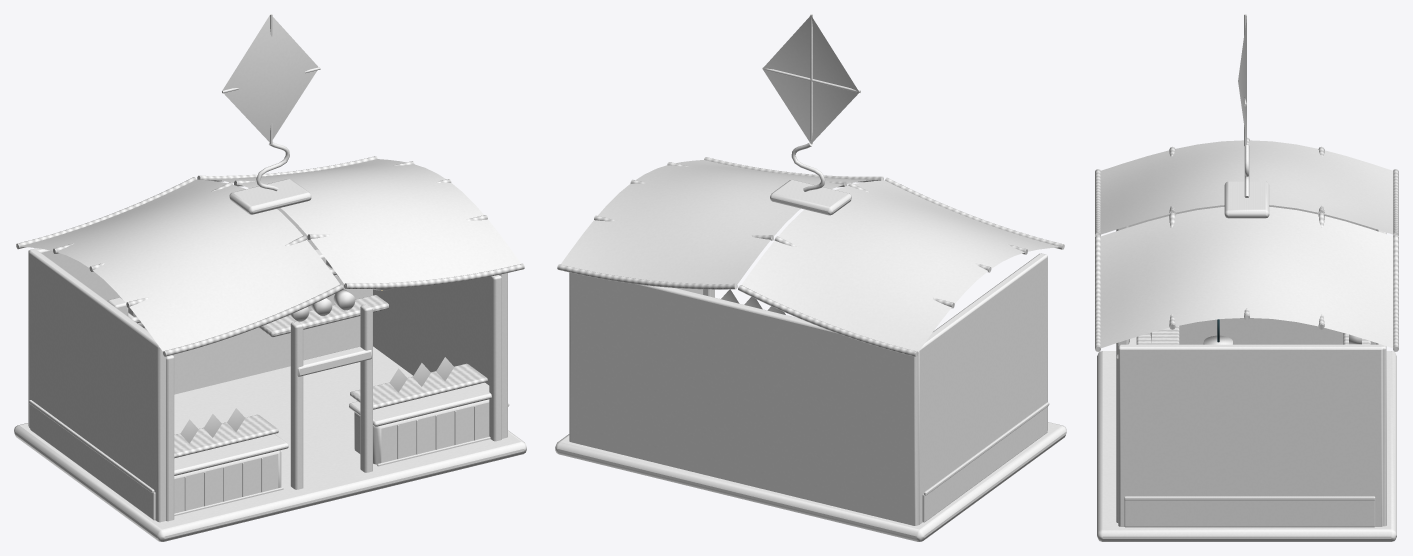
Rendered from kite.raw.glb.
The picture shows the model from 3 angles, left to right: view 1: azimuth 30°, elevation 25°; view 2: azimuth 150°, elevation 25°; view 3: azimuth 270°, elevation 25°; orthographic projection.
Visible parts, largest first — view 1: kite_Kite_SailRoof_42, kite_Shared_Foundation_4, kite_Shared_SideWall_6, kite_Kite_SailRoof_55, kite_Shared_SideWall_11, kite_Shared_BackWall_5, kite_Kite_FoldedSail_63, kite_Shared_ServiceCounter_12, kite_Shared_ServiceCounter_7, kite_Detail_SideDado_67, kite_Sail_CuttingTable_56, kite_Shared_CounterStone_13 (+14 smaller); view 2: kite_Shared_BackWall_5, kite_Kite_SailRoof_42, kite_Kite_SailRoof_55, kite_Shared_SideWall_6, kite_Shared_Foundation_4, kite_Kite_FoldedSail_63, kite_Detail_SideDado_67, kite_Shared_RooftopMount_35, kite_Kite_RibCanopy_41, kite_Kite_RibCanopy_54, kite_Kite_RibCanopy_37, kite_Detail_SideTrim_68 (+1 smaller); view 3: kite_Shared_SideWall_11, kite_Kite_SailRoof_55, kite_Kite_SailRoof_42, kite_Shared_Foundation_4, kite_Detail_SideDado_75, kite_Shared_SideWall_6, kite_Shared_RooftopMount_35, kite_Detail_SideTrim_76, kite_Shared_BackWall_5, kite_Kite_RibCanopy_50, kite_Kite_RibCanopy_54, kite_Kite_FoldedSail_63 (+4 smaller).
Boxes of the visible parts, <box> form: kite_Kite_SailRoof_42: <box>19,179,340,351</box>; kite_Shared_Foundation_4: <box>14,346,526,541</box>; kite_Shared_SideWall_6: <box>29,251,166,522</box>; kite_Kite_SailRoof_55: <box>202,159,521,284</box>; kite_Shared_SideWall_11: <box>373,273,507,438</box>; kite_Shared_BackWall_5: <box>28,208,372,426</box>; kite_Kite_FoldedSail_63: <box>222,15,318,142</box>; kite_Shared_ServiceCounter_12: <box>354,399,489,464</box>; kite_Shared_ServiceCounter_7: <box>174,450,281,513</box>; kite_Detail_SideDado_67: <box>30,404,155,520</box>; kite_Sail_CuttingTable_56: <box>350,363,487,409</box>; kite_Shared_CounterStone_13: <box>349,382,491,426</box>; kite_Shared_BackWall_5: <box>569,272,917,525</box>; kite_Kite_SailRoof_42: <box>741,180,1061,351</box>; kite_Kite_SailRoof_55: <box>560,160,880,284</box>; kite_Shared_SideWall_6: <box>917,253,1047,525</box>; kite_Shared_Foundation_4: <box>555,422,1066,541</box>; kite_Kite_FoldedSail_63: <box>762,15,859,143</box>; kite_Detail_SideDado_67: <box>922,407,1047,522</box>; kite_Shared_RooftopMount_35: <box>770,179,851,215</box>; kite_Kite_RibCanopy_41: <box>738,285,918,356</box>; kite_Kite_RibCanopy_54: <box>557,264,737,289</box>; kite_Kite_RibCanopy_37: <box>885,177,1064,249</box>; kite_Detail_SideTrim_68: <box>924,402,1049,495</box>; kite_Shared_SideWall_11: <box>1118,344,1383,526</box>; kite_Kite_SailRoof_55: <box>1100,207,1393,348</box>; kite_Kite_SailRoof_42: <box>1100,140,1393,234</box>; kite_Shared_Foundation_4: <box>1097,351,1396,541</box>; kite_Detail_SideDado_75: <box>1124,500,1375,527</box>; kite_Shared_SideWall_6: <box>1128,205,1376,344</box>; kite_Shared_RooftopMount_35: <box>1224,181,1269,218</box>; kite_Detail_SideTrim_76: <box>1124,496,1375,500</box>; kite_Shared_BackWall_5: <box>1376,229,1386,526</box>; kite_Kite_RibCanopy_50: <box>1095,235,1100,351</box>; kite_Kite_RibCanopy_54: <box>1393,235,1398,351</box>; kite_Kite_FoldedSail_63: <box>1238,16,1246,144</box>.
Bounding box in the file's own units: 10.6 × 11.85 × 7.45.
7 materials, 5 textured.
